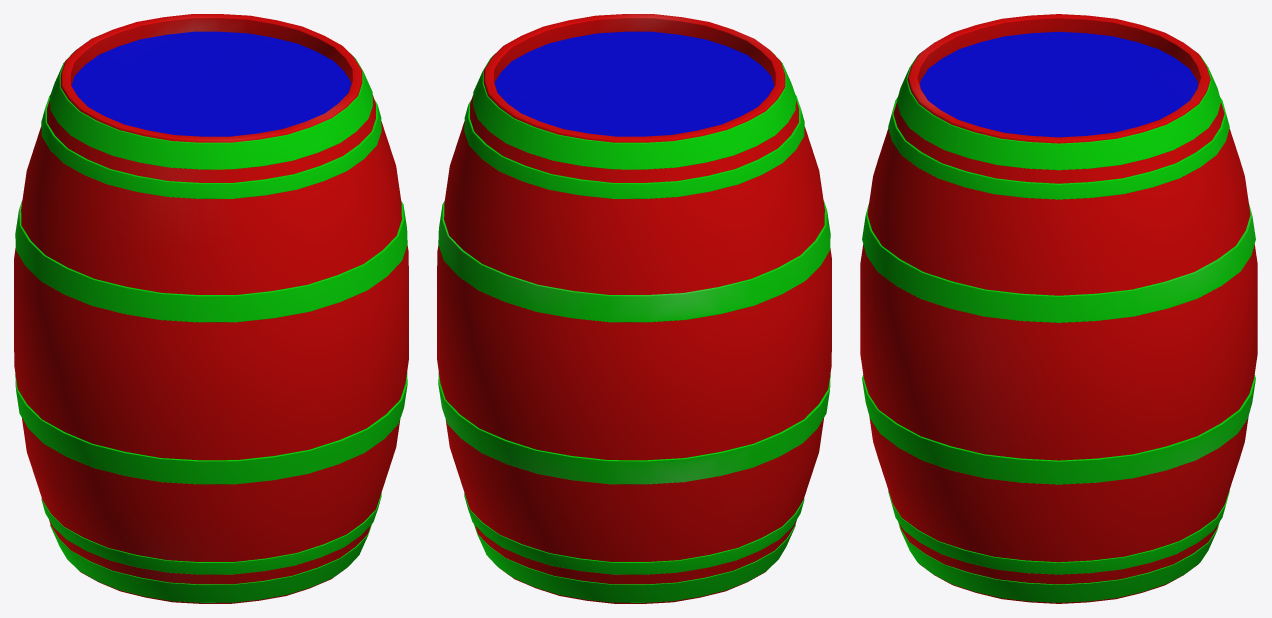
The model's file is SM_Wood_Barrel_01.FBX.
3 renders of one model, left to right at view 1: azimuth 30°, elevation 25°; view 2: azimuth 150°, elevation 25°; view 3: azimuth 270°, elevation 25°, orthographic.
Parts seen in each view (by area): view 1: SM_Wood_Barrel_01_LOD0; view 2: SM_Wood_Barrel_01_LOD0; view 3: SM_Wood_Barrel_01_LOD0.
Part boxes in pixels (x1,y1,x2,y2): SM_Wood_Barrel_01_LOD0: (14,14,408,603); SM_Wood_Barrel_01_LOD0: (437,14,831,603); SM_Wood_Barrel_01_LOD0: (860,14,1257,603).
Size of what is drawn, in the model's own units: 69.86 by 69.86 by 89.98.
